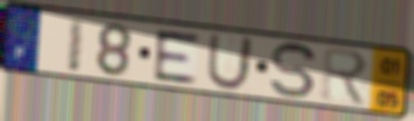8: (95, 22, 134, 79)
E: (152, 28, 202, 86)
I: (65, 15, 88, 75)
R: (319, 44, 370, 109)
S: (269, 40, 318, 101)
U: (203, 33, 256, 93)
